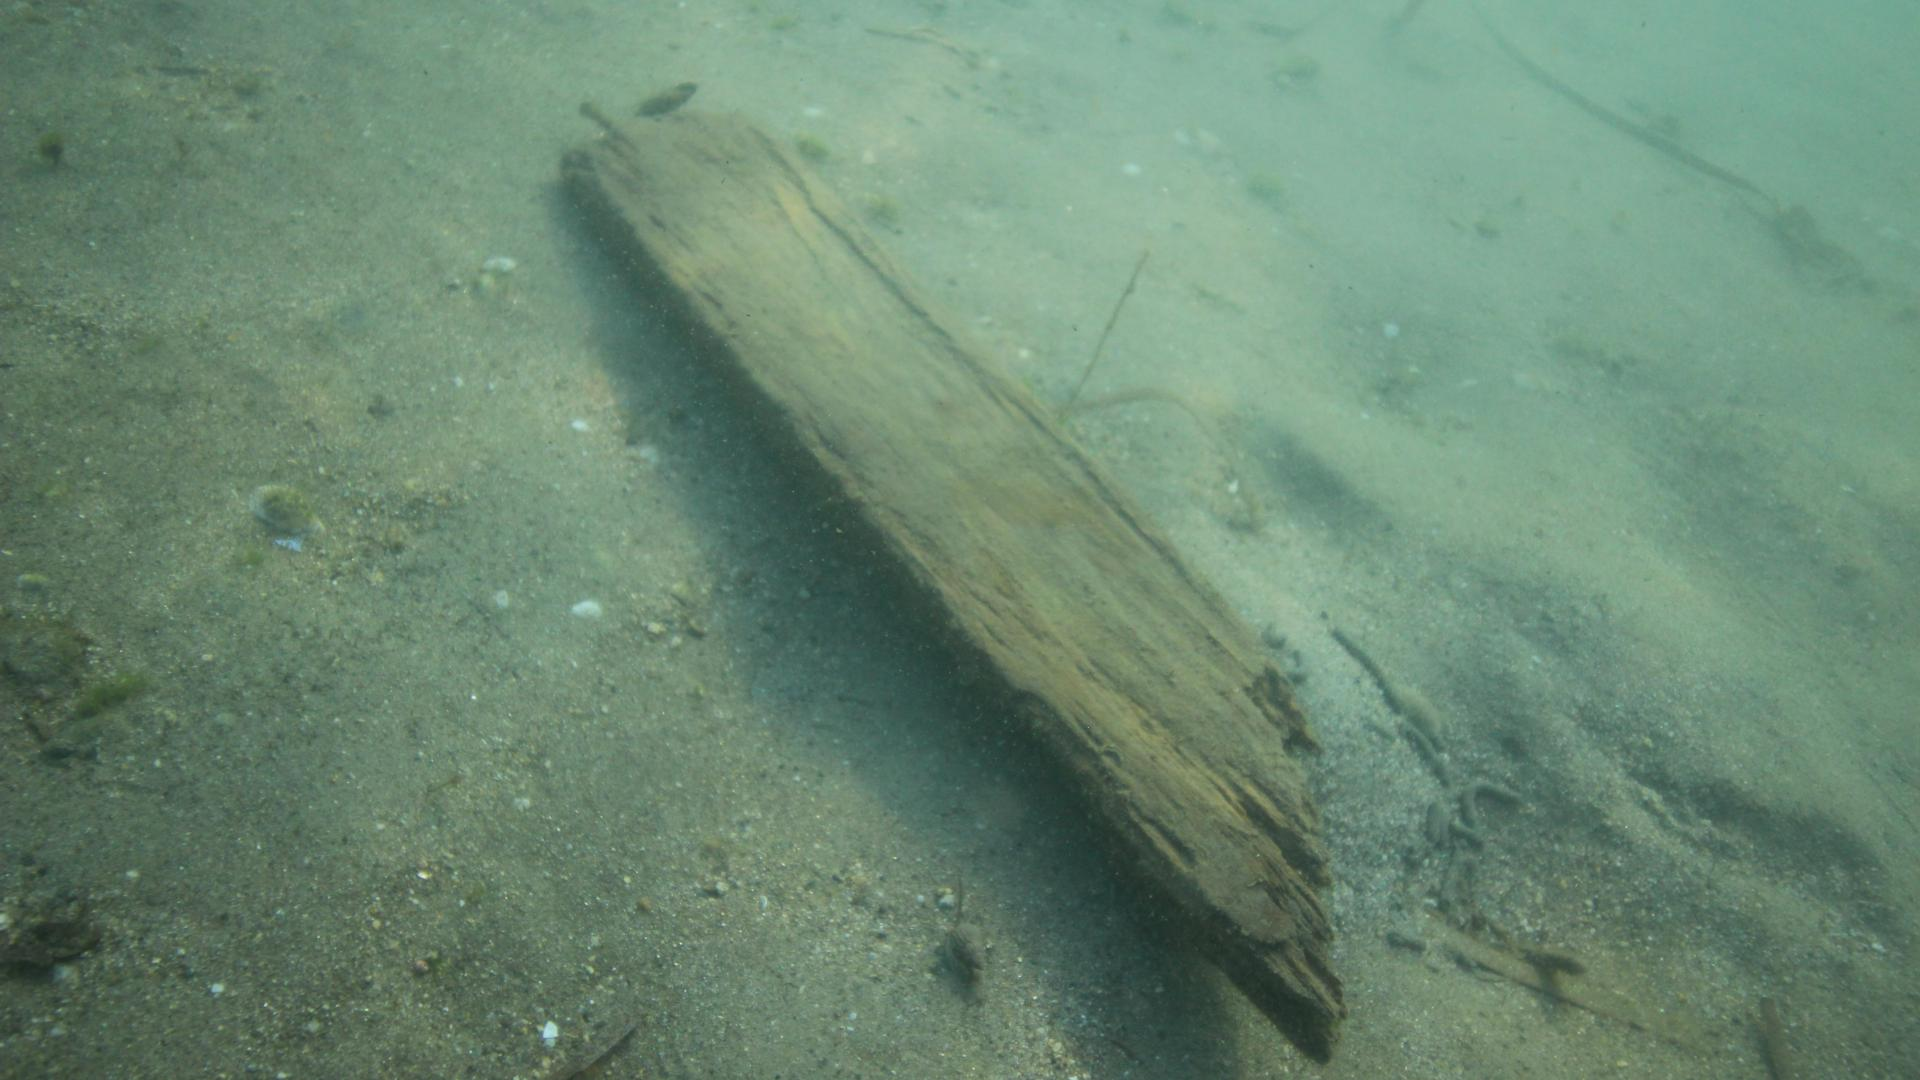wood: (555, 107, 1346, 1063)
